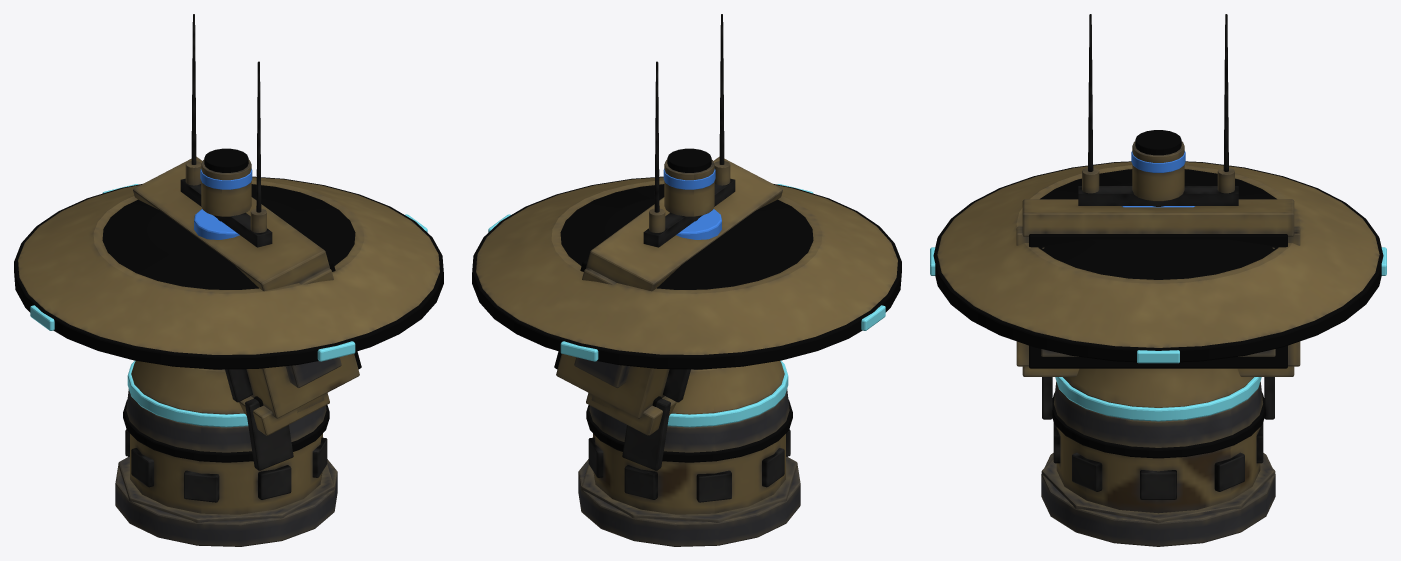
The model's file is player_radar.glb.
3 views of the same model, side by side, from view 1: azimuth 30°, elevation 25°; view 2: azimuth 150°, elevation 25°; view 3: azimuth 270°, elevation 25° (orthographic). The views are drawn at different scales.
Parts seen in each view (by area): view 1: R5, R4, R3, R1; view 2: R5, R4, R3, R1; view 3: R5, R4, R3, R1.
Boxes of the visible parts, left/top/right/bottom form: R5: left=14, top=176, right=443, bottom=546; R4: left=118, top=360, right=334, bottom=522; R3: left=133, top=156, right=361, bottom=435; R1: left=180, top=14, right=272, bottom=247; R5: left=472, top=176, right=901, bottom=546; R4: left=581, top=360, right=797, bottom=522; R3: left=554, top=156, right=782, bottom=435; R1: left=643, top=14, right=735, bottom=247; R5: left=930, top=161, right=1386, bottom=546; R4: left=1041, top=368, right=1275, bottom=522; R3: left=1016, top=199, right=1300, bottom=376; R1: left=1078, top=14, right=1238, bottom=206.
Bounding box in the file's own units: 1.48 × 1.73 × 1.48.
1 material, 1 textured.
